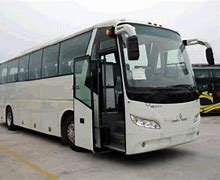bigcar: (0, 14, 215, 158)
